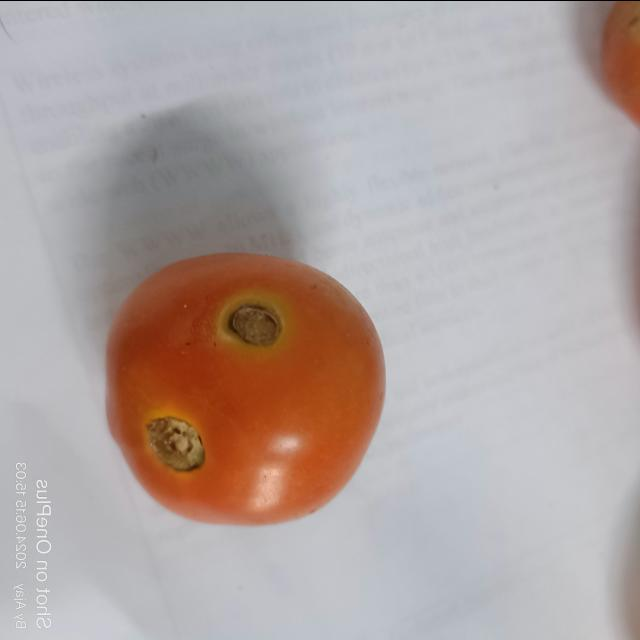fruitworm_bore: (222, 296, 284, 348)
